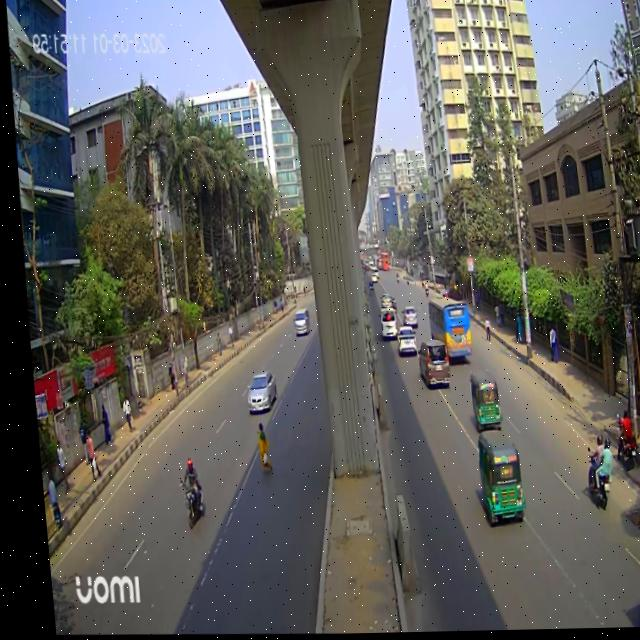cng: (465, 421, 522, 544), (462, 368, 493, 426)
